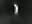person: (14, 4, 20, 17)
